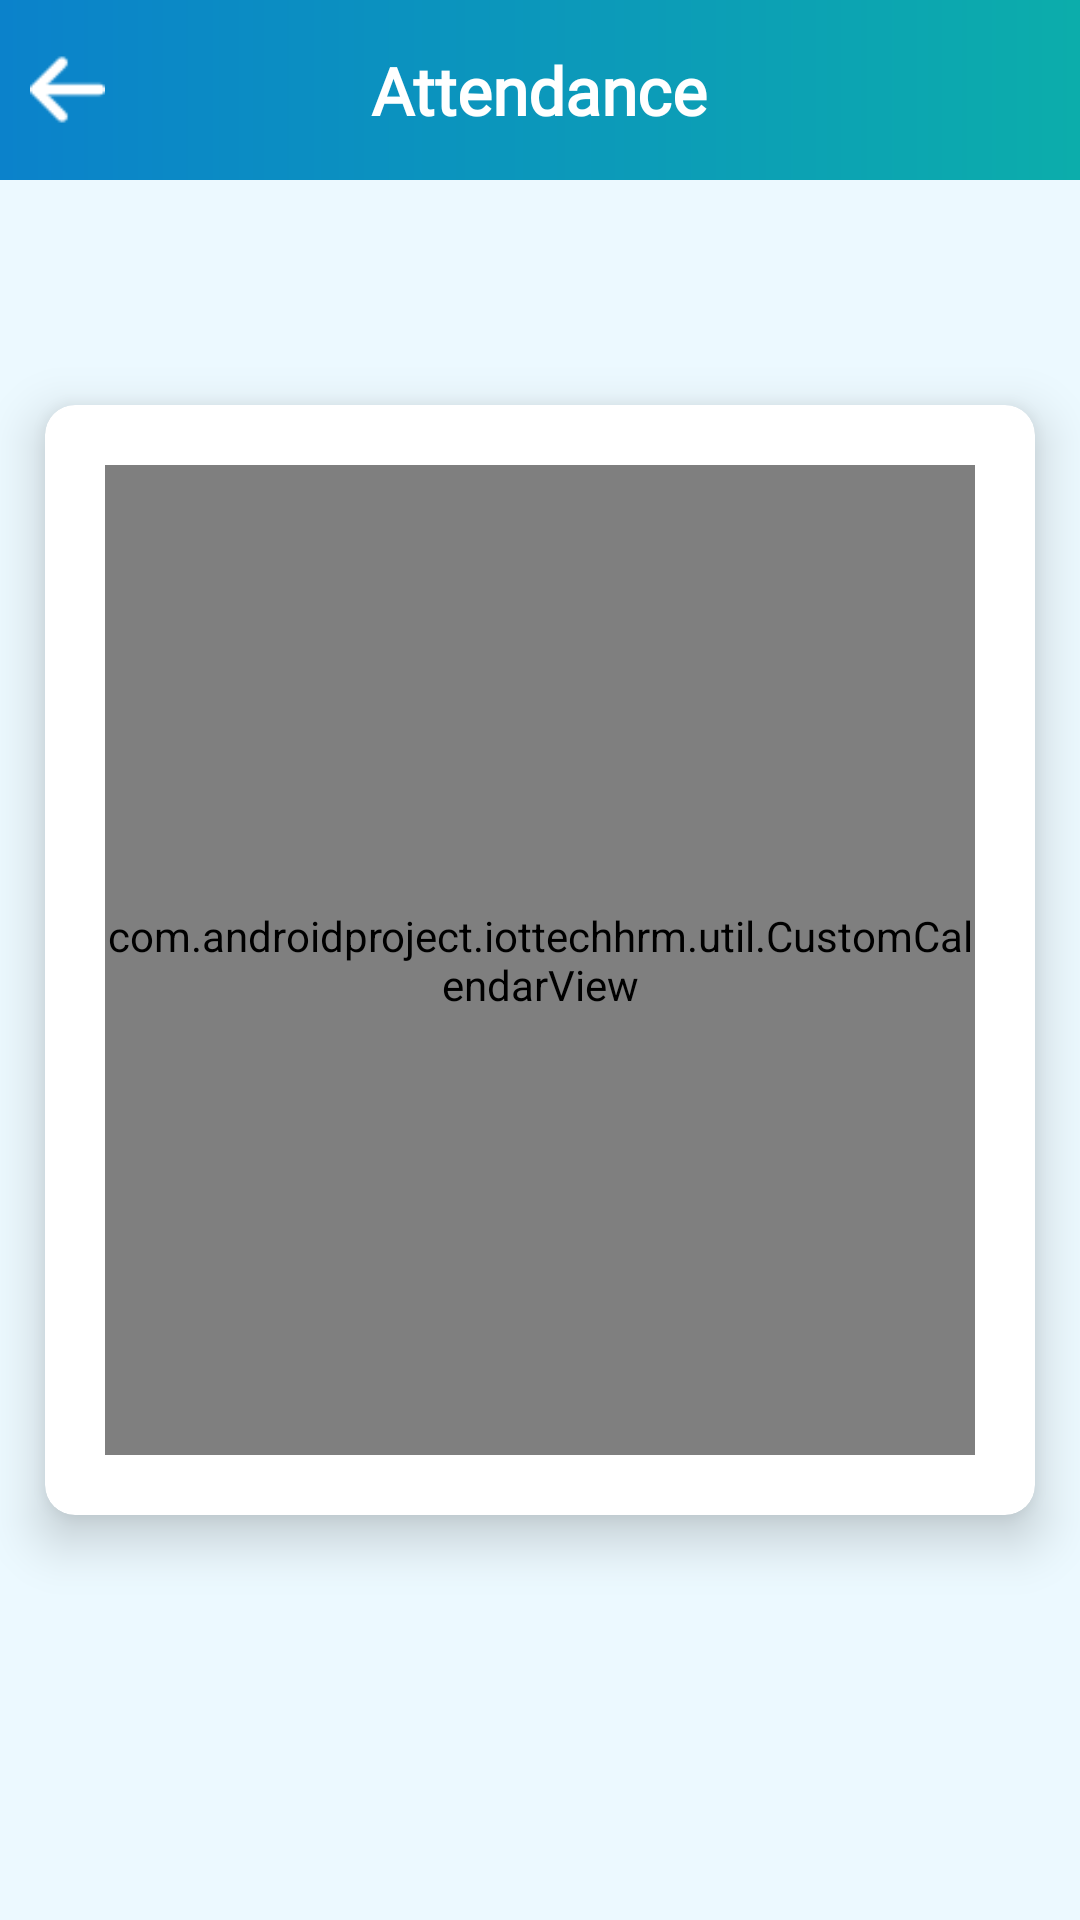

Locate icon controls on the screen. Image size 1080px x 1920px, boxes as {"x1": x1, "y1": y1, "x2": x2, "y2": y2}.
back arrow: {"x1": 30, "y1": 56, "x2": 105, "y2": 123}
